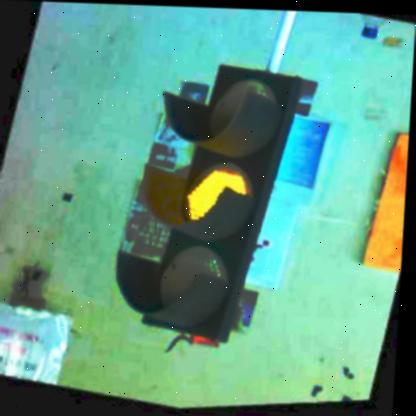Traffic Light -Yellow-: (94, 44, 316, 353)
